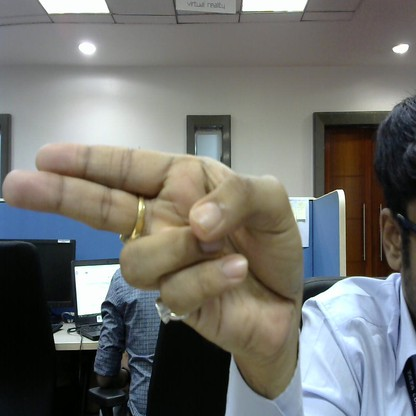h: (1, 117, 312, 385)
